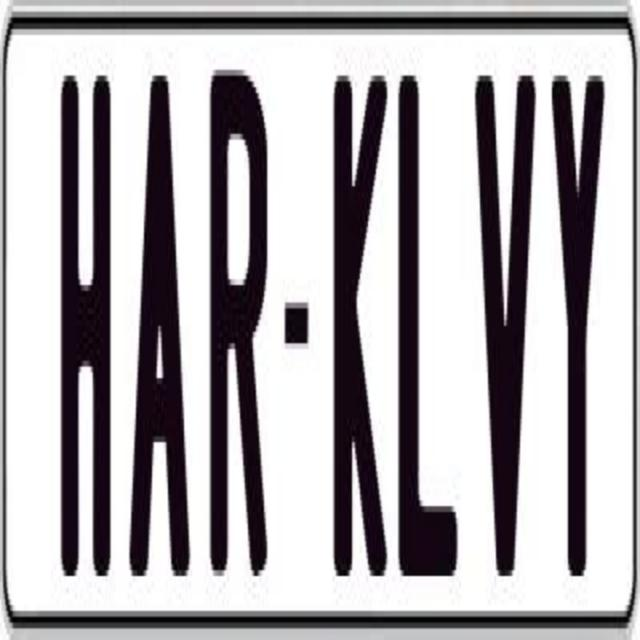A: (125, 70, 184, 594)
H: (61, 70, 120, 570)
K: (334, 58, 390, 564)
L: (394, 58, 459, 582)
R: (210, 52, 266, 570)
V: (470, 70, 540, 600)
Y: (549, 64, 603, 582)
